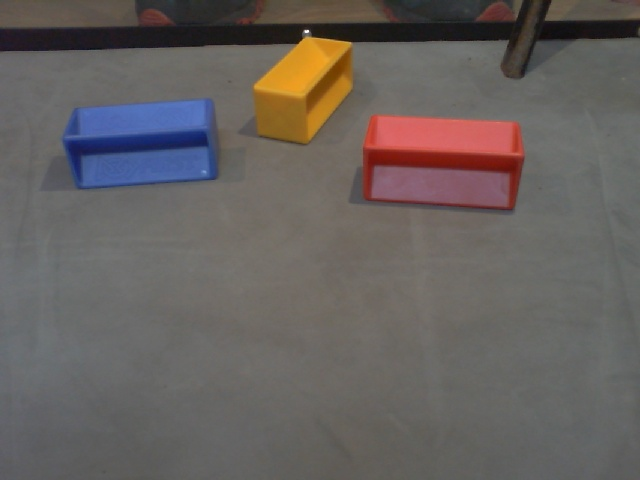BlueSample: (57, 97, 222, 193)
RedSample: (358, 110, 526, 214)
YellowSample: (251, 31, 354, 149)
